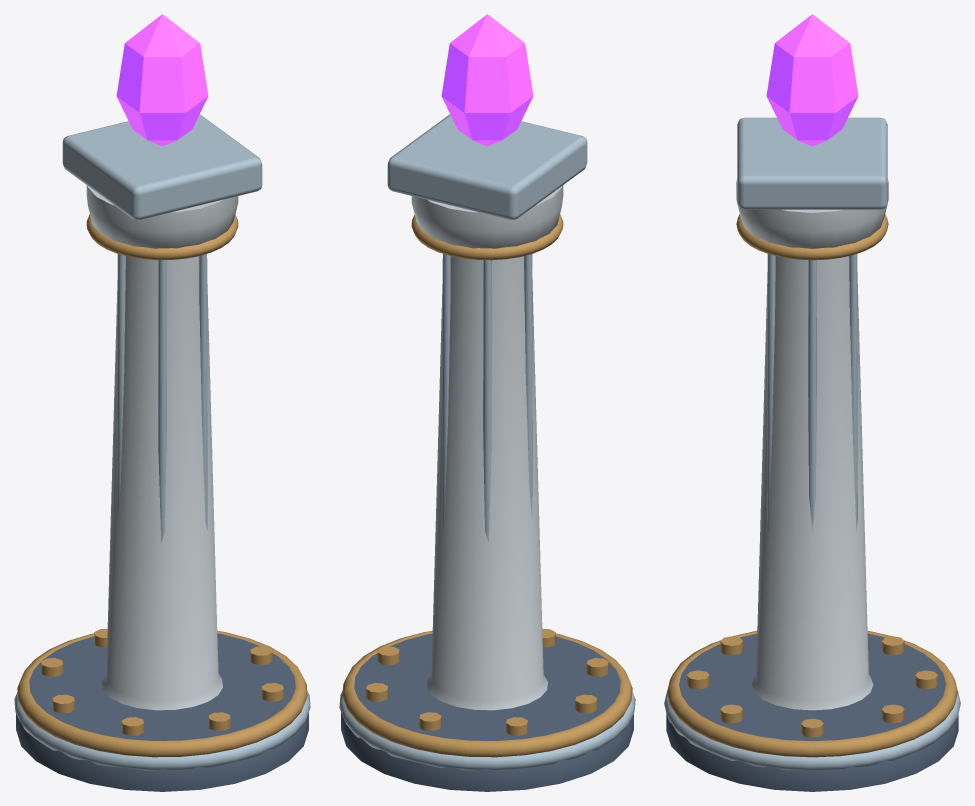
File: moonsteel-convergence-watch-pillar-c15b7346__18157.glb
3 renders of one model, left to right at view 1: azimuth 30°, elevation 25°; view 2: azimuth 150°, elevation 25°; view 3: azimuth 270°, elevation 25°, orthographic.
Visible parts, largest first — view 1: watch-pillar; view 2: watch-pillar; view 3: watch-pillar.
Boxes of the visible parts, bbox=[...] form: watch-pillar: bbox=[14, 14, 310, 791]; watch-pillar: bbox=[339, 14, 635, 791]; watch-pillar: bbox=[664, 14, 960, 791].
Bounding box in the file's own units: 1.42 × 3.78 × 1.42.
